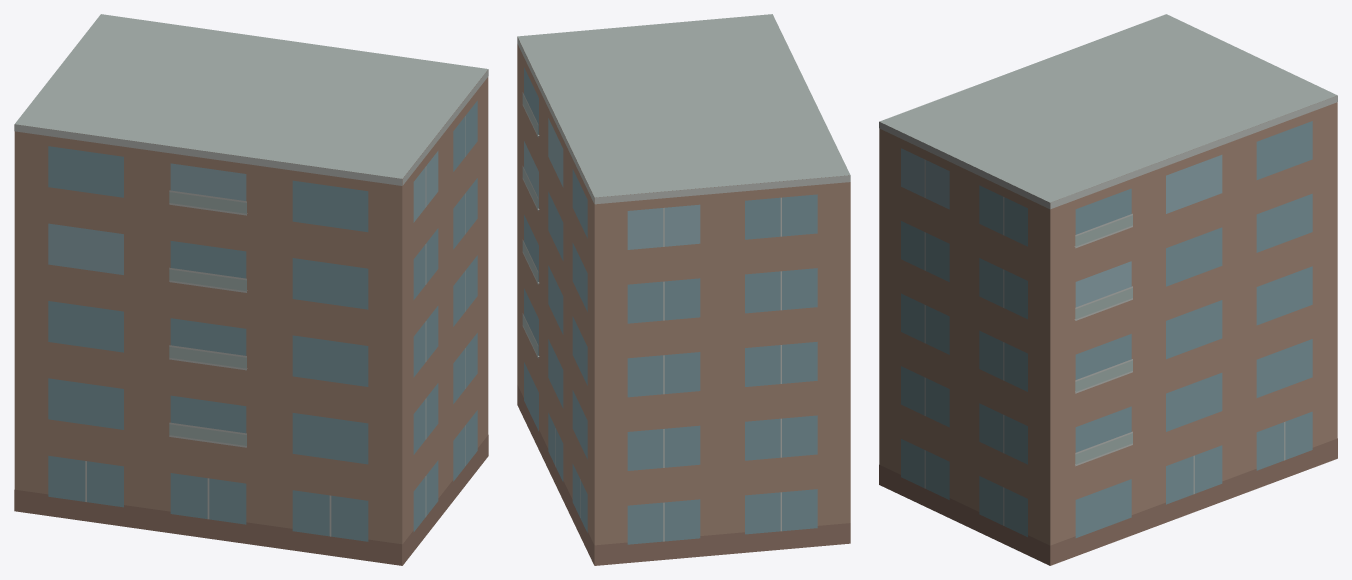
Rendered from survey-upis-32889211.glb.
The picture shows the model from 3 angles, left to right: view 1: azimuth 30°, elevation 25°; view 2: azimuth 150°, elevation 25°; view 3: azimuth 270°, elevation 25°; orthographic projection. The views are drawn at different scales.
Parts seen in each view (by area): view 1: survey-upis-32889211.tmp; view 2: survey-upis-32889211.tmp; view 3: survey-upis-32889211.tmp.
Boxes of the visible parts, bbox=[...] form: survey-upis-32889211.tmp: bbox=[14, 14, 488, 565]; survey-upis-32889211.tmp: bbox=[517, 14, 850, 565]; survey-upis-32889211.tmp: bbox=[879, 14, 1337, 565].
Bounding box in the file's own units: 14.72 × 13.2 × 15.11.
